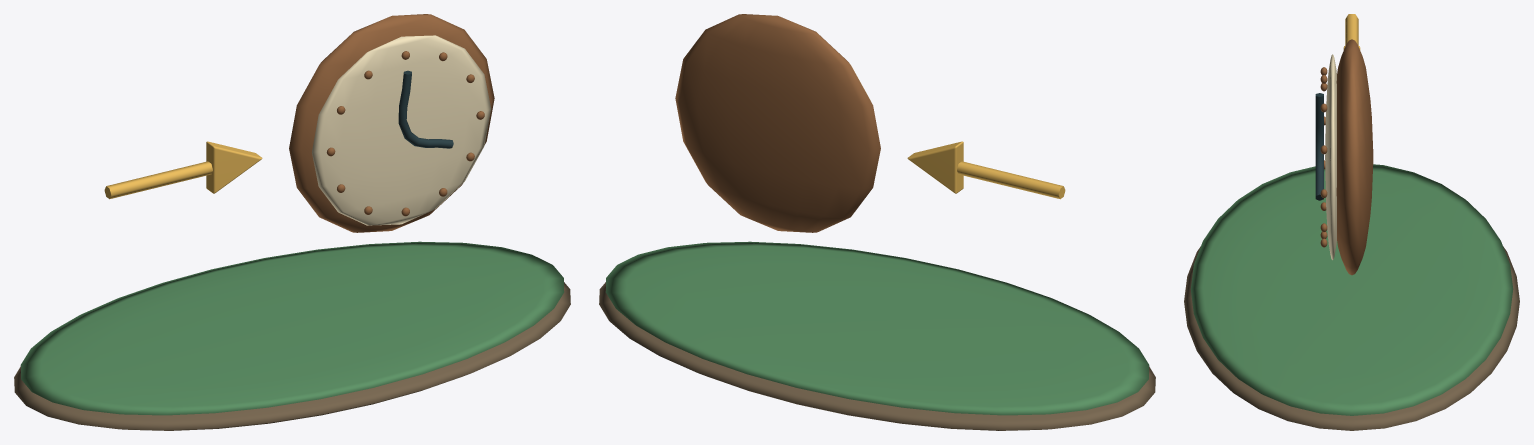
File: accurate-time.glb
3 renders of one model, left to right at view 1: azimuth 30°, elevation 25°; view 2: azimuth 150°, elevation 25°; view 3: azimuth 270°, elevation 25°, orthographic.
Visible parts, largest first — view 1: accurate-time_surface_01, accurate-time_surface_04, accurate-time_surface_00, accurate-time_surface_03, accurate-time_surface_02, accurate-time_surface_05; view 2: accurate-time_surface_01, accurate-time_surface_03, accurate-time_surface_00, accurate-time_surface_02; view 3: accurate-time_surface_01, accurate-time_surface_03, accurate-time_surface_00, accurate-time_surface_04, accurate-time_surface_05, accurate-time_surface_02.
Boxes of the visible parts, bbox=[...] form: accurate-time_surface_01: bbox=[20, 241, 564, 415]; accurate-time_surface_04: bbox=[312, 35, 491, 225]; accurate-time_surface_00: bbox=[14, 282, 570, 430]; accurate-time_surface_03: bbox=[289, 14, 494, 232]; accurate-time_surface_02: bbox=[104, 141, 262, 199]; accurate-time_surface_05: bbox=[398, 70, 453, 148]; accurate-time_surface_01: bbox=[605, 241, 1149, 415]; accurate-time_surface_03: bbox=[675, 14, 880, 232]; accurate-time_surface_00: bbox=[599, 282, 1155, 430]; accurate-time_surface_02: bbox=[907, 141, 1065, 199]; accurate-time_surface_01: bbox=[1190, 164, 1513, 415]; accurate-time_surface_03: bbox=[1320, 39, 1373, 275]; accurate-time_surface_00: bbox=[1184, 246, 1519, 430]; accurate-time_surface_04: bbox=[1325, 54, 1336, 260]; accurate-time_surface_05: bbox=[1315, 93, 1323, 200]; accurate-time_surface_02: bbox=[1343, 14, 1360, 49].
Size of the model in its own units: 4.56 by 2.59 by 2.5.
